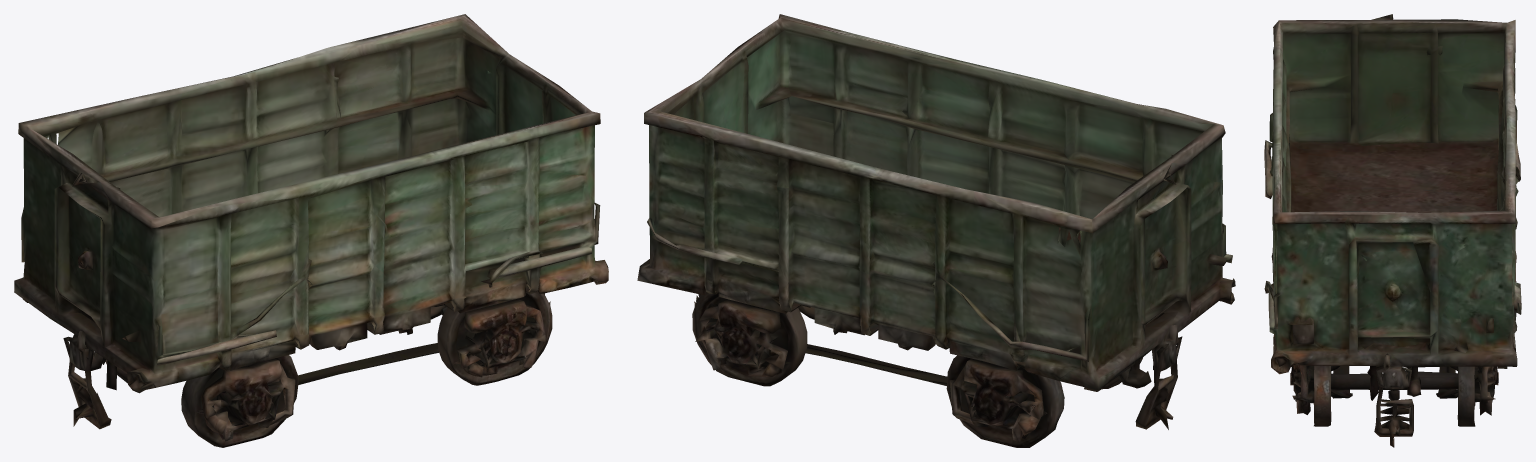
Rendered from rd_gondola.glb.
The picture shows the model from 3 angles, left to right: view 1: azimuth 30°, elevation 25°; view 2: azimuth 150°, elevation 25°; view 3: azimuth 270°, elevation 25°; orthographic projection. The views are drawn at different scales.
Visible parts, largest first — view 1: tripo_node_a43cf4c5-c579-49e3-acb7-b59fc18a4798; view 2: tripo_node_a43cf4c5-c579-49e3-acb7-b59fc18a4798; view 3: tripo_node_a43cf4c5-c579-49e3-acb7-b59fc18a4798.
Part boxes in pixels (bbox=[...]): tripo_node_a43cf4c5-c579-49e3-acb7-b59fc18a4798: bbox=[14, 14, 608, 447]; tripo_node_a43cf4c5-c579-49e3-acb7-b59fc18a4798: bbox=[637, 14, 1235, 447]; tripo_node_a43cf4c5-c579-49e3-acb7-b59fc18a4798: bbox=[1264, 14, 1521, 447].
Bounding box in the file's own units: 0.9731 × 0.5261 × 0.5066.
1 material, 1 textured.
